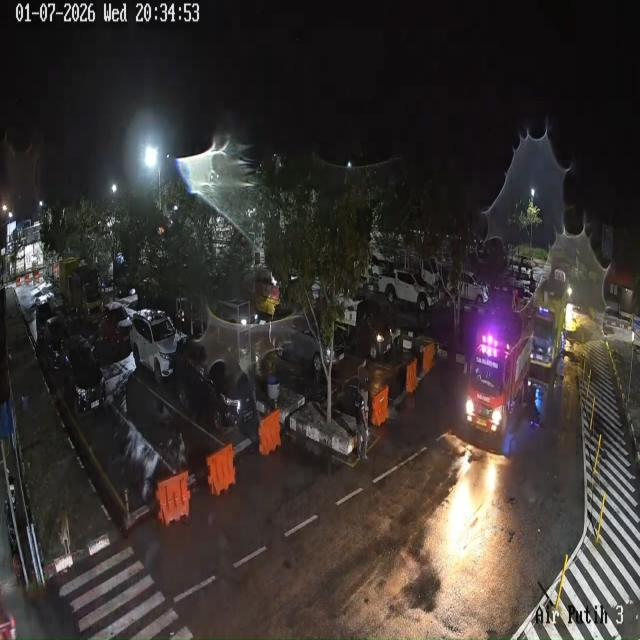Golongan IVA: (174, 340, 259, 434), (269, 303, 346, 374), (130, 309, 182, 383), (60, 335, 106, 414), (38, 314, 70, 370), (100, 301, 132, 348), (35, 297, 55, 342)
Golongan IVB: (378, 269, 438, 311)
Golongan VB: (466, 313, 532, 437), (530, 261, 571, 387)
